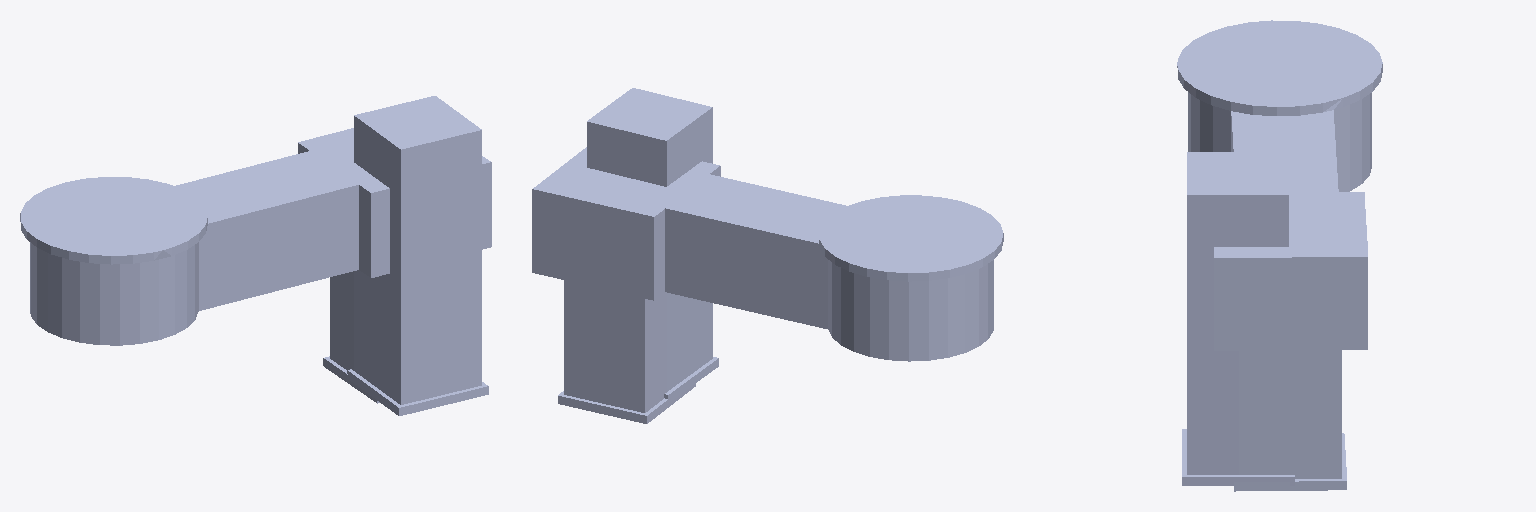
robot.urdf — 3D_CAD_Scara:
<?xml version="1.0" encoding="utf-8"?>
<!-- This URDF was automatically created by SolidWorks to URDF Exporter! Originally created by Stephen Brawner (brawner@gmail.com) 
     Commit Version: 1.6.0-4-g7f85cfe  Build Version: 1.6.7995.38578
     For more information, please see http://wiki.ros.org/sw_urdf_exporter -->
<robot
  name="3D_CAD_Scara">
  <link
    name="base_link">
    <inertial>
      <origin
        xyz="3.46944695195361E-18 0 0.0904371532311637"
        rpy="0 0 0" />
      <mass
        value="6.24513231920778" />
      <inertia
        ixx="0.045813663764175"
        ixy="3.97540796578018E-19"
        ixz="-7.04075760399915E-19"
        iyy="0.045813663764175"
        iyz="-5.66846010352481E-19"
        izz="0.0340710749087118" />
    </inertial>
    <visual>
      <origin
        xyz="0 0 0"
        rpy="0 0 0" />
      <geometry>
        <mesh
          filename="package://3D_CAD_Scara/meshes/base_link.STL" />
      </geometry>
      <material
        name="">
        <color
          rgba="0.792156862745098 0.819607843137255 0.933333333333333 1" />
      </material>
    </visual>
    <collision>
      <origin
        xyz="0 0 0"
        rpy="0 0 0" />
      <geometry>
        <mesh
          filename="package://3D_CAD_Scara/meshes/base_link.STL" />
      </geometry>
    </collision>
  </link>
  <link
    name="Link01_Link">
    <inertial>
      <origin
        xyz="0.253227532242626 -0.00181877889930493 0.0223525896423132"
        rpy="0 0 0" />
      <mass
        value="6.88681009624485" />
      <inertia
        ixx="0.0295682164036904"
        ixy="0.000840455151171722"
        ixz="-0.014895574365885"
        iyy="0.146578263615436"
        iyz="0.000106985824605129"
        izz="0.140762682864953" />
    </inertial>
    <visual>
      <origin
        xyz="0 0 0"
        rpy="0 0 0" />
      <geometry>
        <mesh
          filename="package://3D_CAD_Scara/meshes/Link01_Link.STL" />
      </geometry>
      <material
        name="">
        <color
          rgba="0.792156862745098 0.819607843137255 0.933333333333333 1" />
      </material>
    </visual>
    <collision>
      <origin
        xyz="0 0 0"
        rpy="0 0 0" />
      <geometry>
        <mesh
          filename="package://3D_CAD_Scara/meshes/Link01_Link.STL" />
      </geometry>
    </collision>
  </link>
  <joint
    name="Joint01_joint"
    type="continuous">
    <origin
      xyz="0 0 0.17"
      rpy="0 0 0" />
    <parent
      link="base_link" />
    <child
      link="Link01_Link" />
    <axis
      xyz="0 0 1" />
  </joint>
  <link
    name="Link02_Link">
    <inertial>
      <origin
        xyz="0.174347563627638 0.00460354235033433 0.00387140852064086"
        rpy="0 0 0" />
      <mass
        value="4.46317135032901" />
      <inertia
        ixx="0.0134415127106594"
        ixy="-0.00217020887865235"
        ixz="0.00301250963785124"
        iyy="0.0961674692620408"
        iyz="7.95435015556471E-05"
        izz="0.100921848562148" />
    </inertial>
    <visual>
      <origin
        xyz="0 0 0"
        rpy="0 0 0" />
      <geometry>
        <mesh
          filename="package://3D_CAD_Scara/meshes/Link02_Link.STL" />
      </geometry>
      <material
        name="">
        <color
          rgba="0.792156862745098 0.819607843137255 0.933333333333333 1" />
      </material>
    </visual>
    <collision>
      <origin
        xyz="0 0 0"
        rpy="0 0 0" />
      <geometry>
        <mesh
          filename="package://3D_CAD_Scara/meshes/Link02_Link.STL" />
      </geometry>
    </collision>
  </link>
  <joint
    name="joint02_joint"
    type="continuous">
    <origin
      xyz="0.34999 -0.0025138 0.1"
      rpy="0 0 0" />
    <parent
      link="Link01_Link" />
    <child
      link="Link02_Link" />
    <axis
      xyz="0 0 1" />
  </joint>
  <link
    name="Link03_Link">
    <inertial>
      <origin
        xyz="0 0 -0.131001526135063"
        rpy="0 0 0" />
      <mass
        value="2.621" />
      <inertia
        ixx="0.0171776793272288"
        ixy="-1.06535912922412E-18"
        ixz="7.67111464716451E-19"
        iyy="0.0171776793272288"
        iyz="-2.78573713821041E-18"
        izz="0.00441068333333334" />
    </inertial>
    <visual>
      <origin
        xyz="0 0 0"
        rpy="0 0 0" />
      <geometry>
        <mesh
          filename="package://3D_CAD_Scara/meshes/Link03_Link.STL" />
      </geometry>
      <material
        name="">
        <color
          rgba="0.792156862745098 0.819607843137255 0.933333333333333 1" />
      </material>
    </visual>
    <collision>
      <origin
        xyz="0 0 0"
        rpy="0 0 0" />
      <geometry>
        <mesh
          filename="package://3D_CAD_Scara/meshes/Link03_Link.STL" />
      </geometry>
    </collision>
  </link>
  <joint
    name="joint03_joint"
    type="prismatic">
    <origin
      xyz="0.34988 0.0091808 0.05"
      rpy="0 0 0" />
    <parent
      link="Link02_Link" />
    <child
      link="Link03_Link" />
    <axis
      xyz="0 0 1" />
    <limit
      lower="0"
      upper="0.13"
      effort="0"
      velocity="0" />
  </joint>
  <link
    name="End_efector_Link">
    <inertial>
      <origin
        xyz="0 0 0.128998473864937"
        rpy="0 0 0" />
      <mass
        value="2.621" />
      <inertia
        ixx="0.0171776793272288"
        ixy="-1.06533520576455E-18"
        ixz="1.09910435443296E-18"
        iyy="0.0171776793272288"
        iyz="-2.78282676630507E-18"
        izz="0.00441068333333334" />
    </inertial>
    <visual>
      <origin
        xyz="0 0 0"
        rpy="0 0 0" />
      <geometry>
        <mesh
          filename="package://3D_CAD_Scara/meshes/End_efector_Link.STL" />
      </geometry>
      <material
        name="">
        <color
          rgba="0.792156862745098 0.819607843137255 0.933333333333333 1" />
      </material>
    </visual>
    <collision>
      <origin
        xyz="0 0 0"
        rpy="0 0 0" />
      <geometry>
        <mesh
          filename="package://3D_CAD_Scara/meshes/End_efector_Link.STL" />
      </geometry>
    </collision>
  </link>
  <joint
    name="Endefector_joint"
    type="fixed">
    <origin
      xyz="0 0 -0.26"
      rpy="0 0 0" />
    <parent
      link="Link03_Link" />
    <child
      link="End_efector_Link" />
    <axis
      xyz="0 0 0" />
  </joint>
</robot>

--- Facts derived from the render (not from the file) ---
Views: 3 orthographic renders of the robot side by side, from view 1: azimuth 30°, elevation 25°; view 2: azimuth 150°, elevation 25°; view 3: azimuth 270°, elevation 25°.
Robot: 3D_CAD_Scara — 5 links, 4 joints (2 continuous, 1 prismatic, 1 fixed); root link base_link; default pose: every joint at zero.
Links seen in each view (by area): view 1: Link02_Link, Link03_Link, End_efector_Link; view 2: Link02_Link, End_efector_Link, Link03_Link; view 3: Link02_Link, Link03_Link, End_efector_Link.
Boxes of the visible links, left/top/right/bottom form: Link02_Link: left=20, top=128, right=491, bottom=345; Link03_Link: left=347, top=96, right=488, bottom=415; End_efector_Link: left=323, top=140, right=379, bottom=403; Link02_Link: left=532, top=147, right=1003, bottom=361; End_efector_Link: left=558, top=168, right=695, bottom=423; Link03_Link: left=587, top=88, right=718, bottom=400; Link02_Link: left=1177, top=20, right=1382, bottom=350; Link03_Link: left=1182, top=152, right=1294, bottom=485; End_efector_Link: left=1234, top=203, right=1346, bottom=491.
Size in the robot's own frame: 0.5264 by 0.1999 by 0.315 metres.
Meshes: 5 distinct files referenced, 3 mesh visuals loaded (3 binary STL); not drawn: 2 (reference not matched to a file when rendering).
